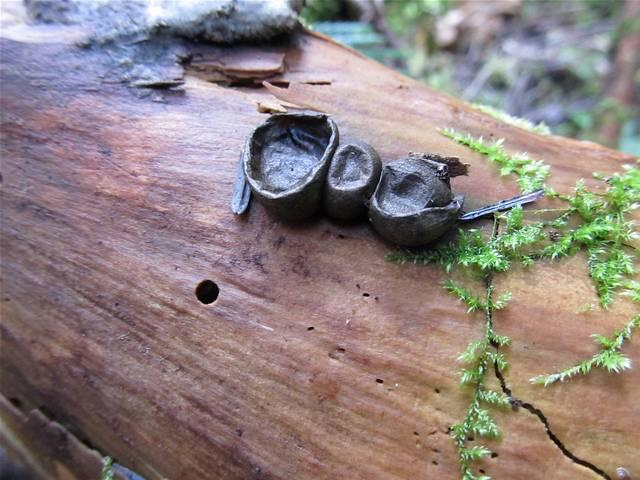Non-edible Mushroom: (231, 109, 339, 221), (365, 152, 464, 247), (322, 138, 382, 221)
